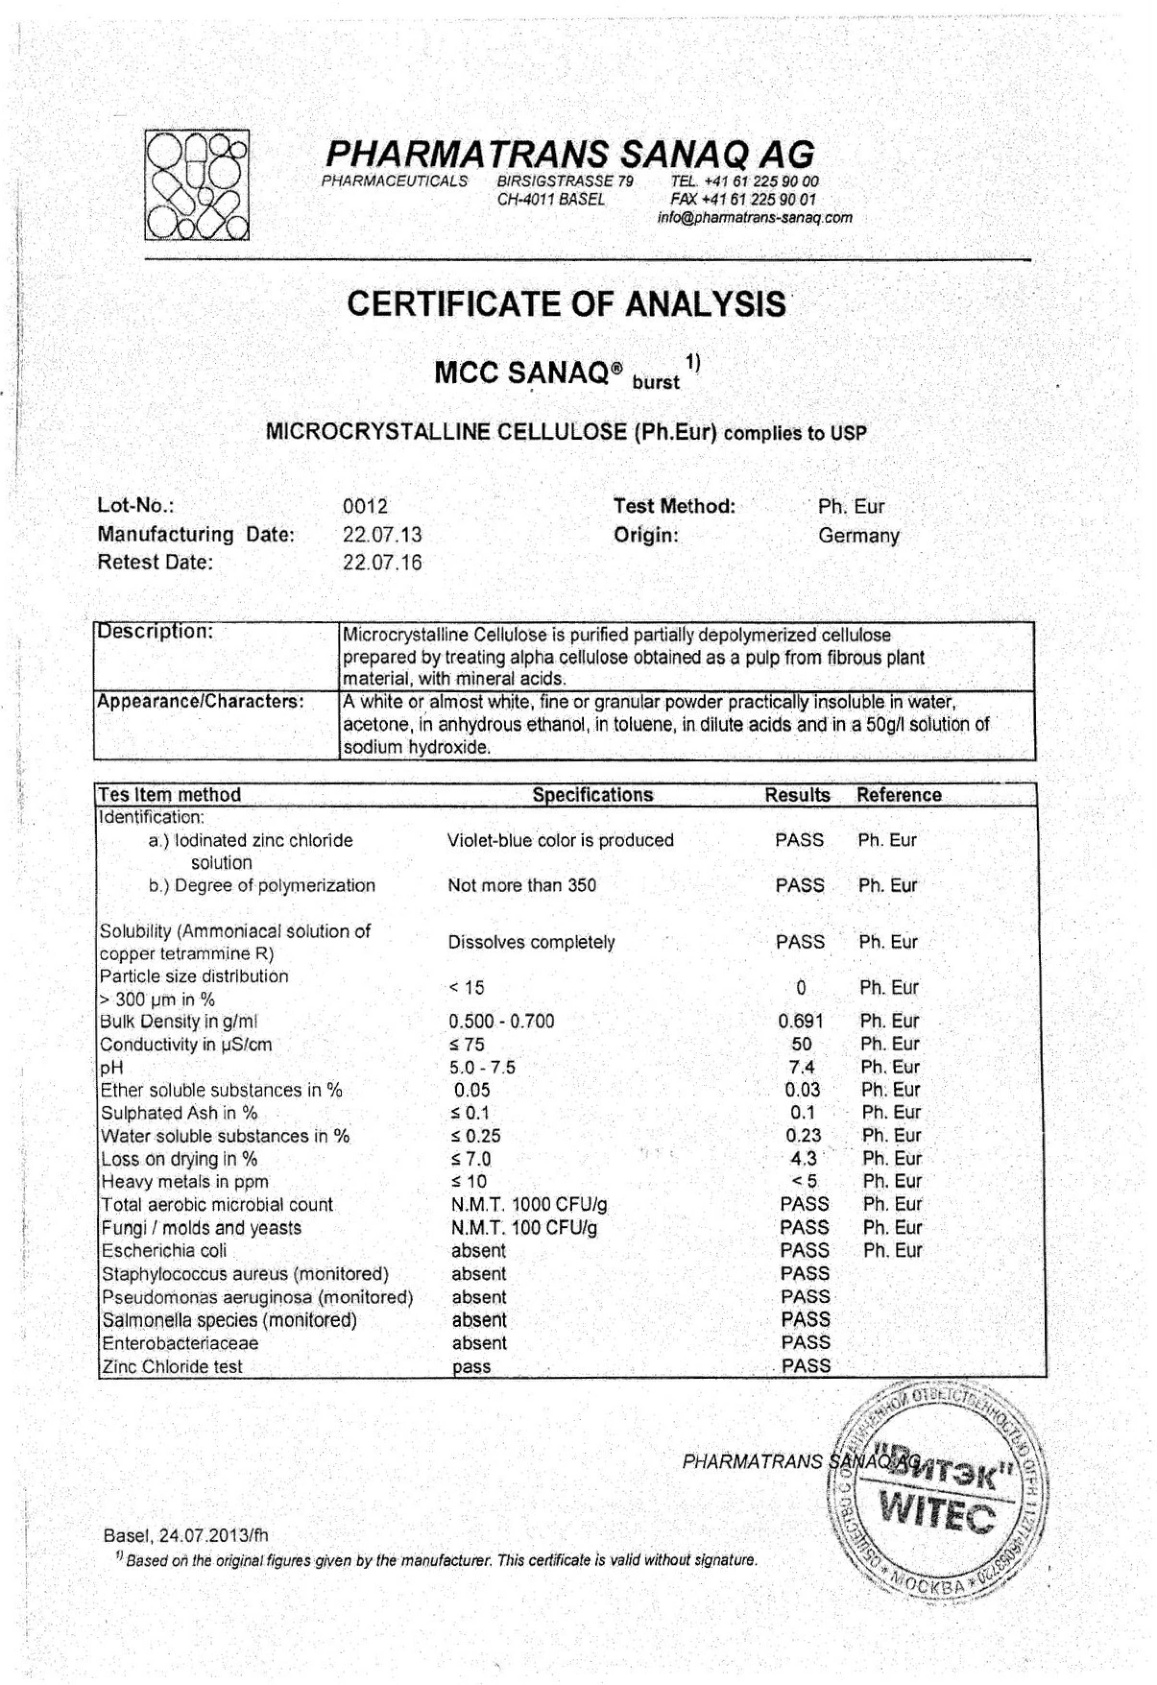full_lined: (91, 620, 1037, 762)
nolines: (92, 490, 902, 577)
partial_lined: (92, 781, 1049, 1380)
